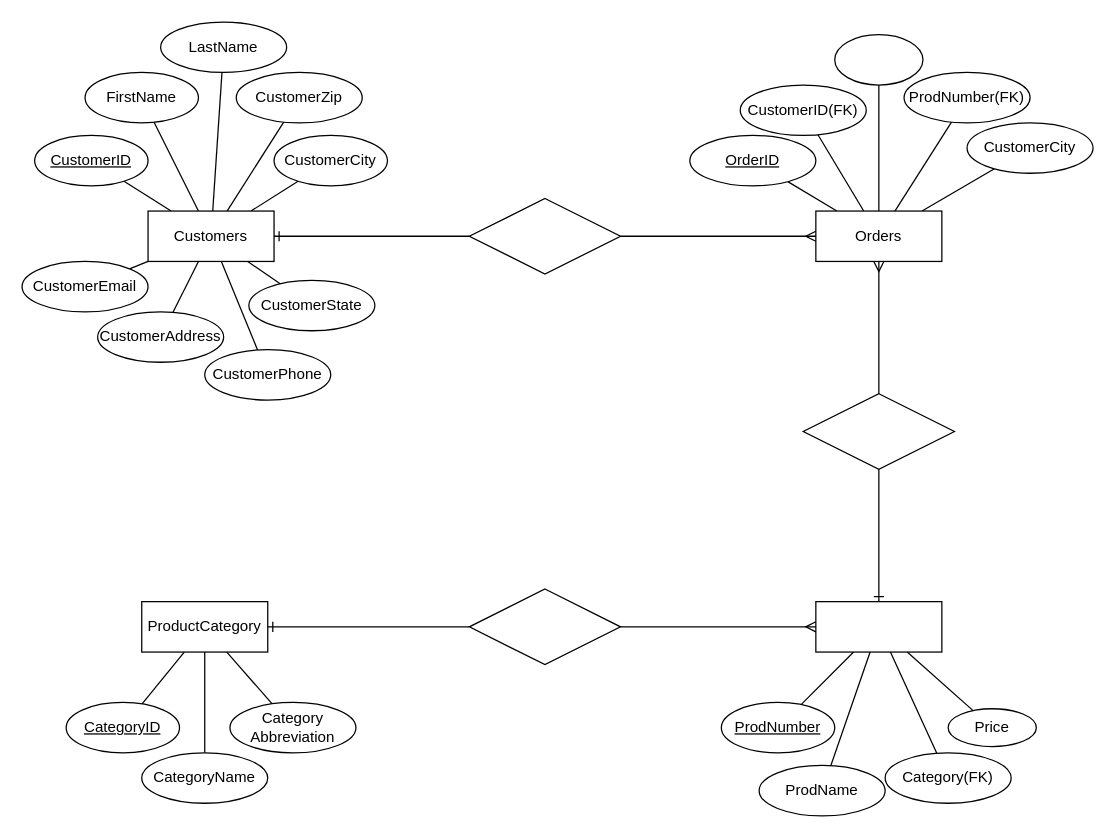
Image size: 1115x838. Some labels were removed from this diagram. The box of each missing label's shape, as (x1, y1, x2, y2) in pixels:
Berisi: (802, 392, 954, 469)
Date: (833, 33, 923, 85)
Melakukan: (468, 197, 621, 274)
Mengkategorikan: (468, 588, 621, 665)
Products: (815, 600, 942, 652)
